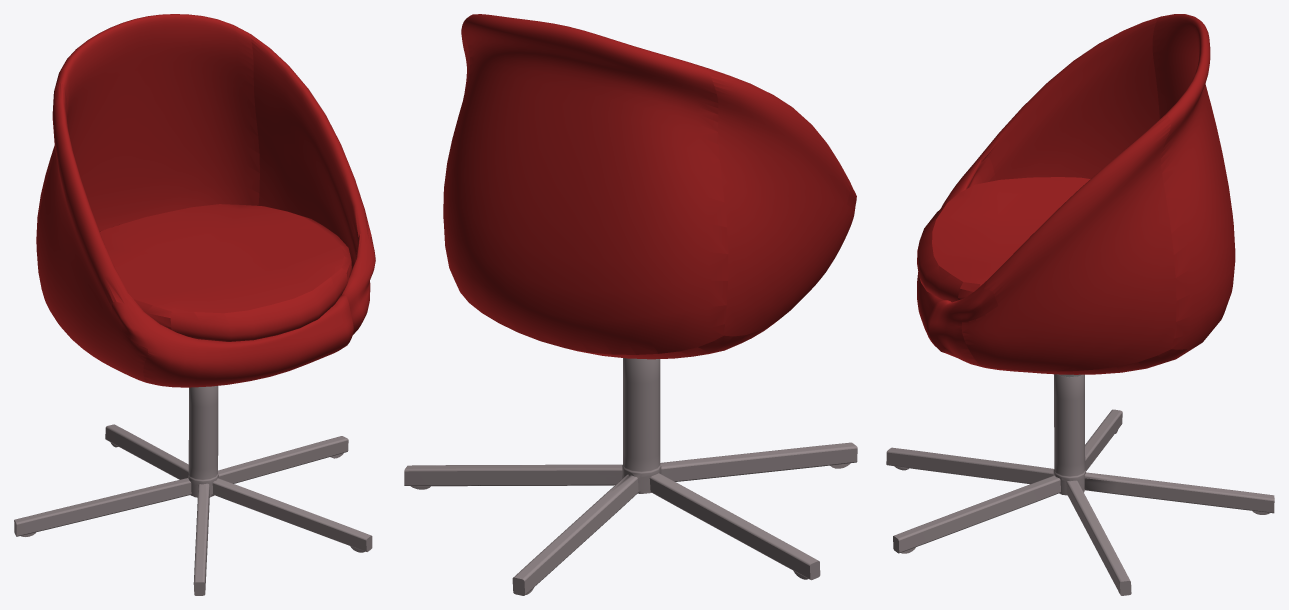
File: IKEA-Skruvsta_Swivel_Chair-3D.DAE
3 renders of one model, left to right at view 1: azimuth 30°, elevation 25°; view 2: azimuth 150°, elevation 25°; view 3: azimuth 270°, elevation 25°, orthographic. The views are drawn at different scales.
Visible parts, largest first — view 1: IKEA_Skruvsta_Swivel_Chair; view 2: IKEA_Skruvsta_Swivel_Chair; view 3: IKEA_Skruvsta_Swivel_Chair.
Part boxes in pixels (x1,y1,x2,y2): IKEA_Skruvsta_Swivel_Chair: [14, 14, 375, 595]; IKEA_Skruvsta_Swivel_Chair: [404, 14, 857, 595]; IKEA_Skruvsta_Swivel_Chair: [886, 14, 1274, 595].
Bounding box in the file's own units: 139 × 177 × 132.
